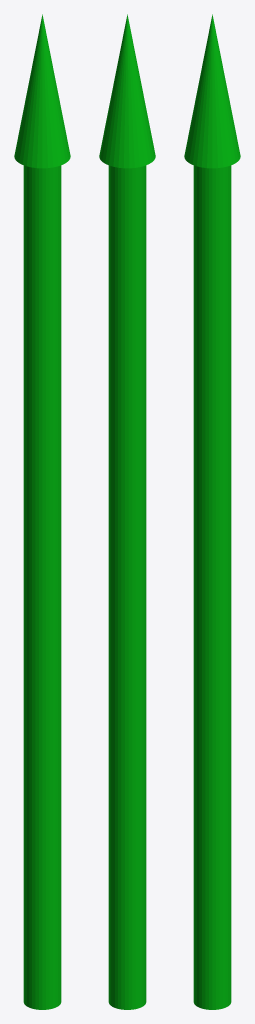
File: gizmoGreen.obj
3 renders of one model, left to right at view 1: azimuth 90°, elevation 25°; view 2: azimuth 150°, elevation 25°; view 3: azimuth 270°, elevation 25°, orthographic.
Visible parts, largest first — view 1: Cylinder; view 2: Cylinder; view 3: Cylinder.
Boxes of the visible parts, x1,y1,x2,y2 form: Cylinder: [14, 14, 70, 1009]; Cylinder: [99, 14, 155, 1009]; Cylinder: [184, 14, 240, 1009].
Size of the model in its own units: 0.0318 by 0.6141 by 0.0318.
